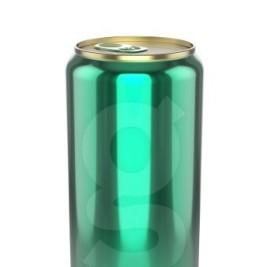beer: (65, 37, 201, 267)
